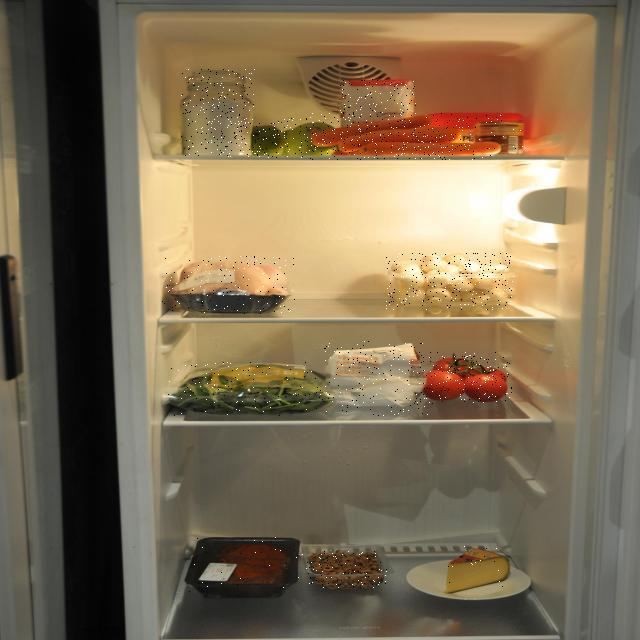apple: (239, 118, 343, 158)
beef: (184, 538, 303, 598)
carrot: (310, 113, 503, 160)
cheese: (444, 546, 513, 594)
chicken: (162, 256, 296, 314)
corn: (474, 122, 525, 156)
flour: (323, 339, 430, 416)
mushrooms: (386, 253, 514, 310)
shrimp: (306, 551, 387, 589)
spinach: (163, 361, 336, 416)
sugar: (181, 69, 256, 157), (341, 79, 416, 156)
tomato: (418, 352, 512, 404)
